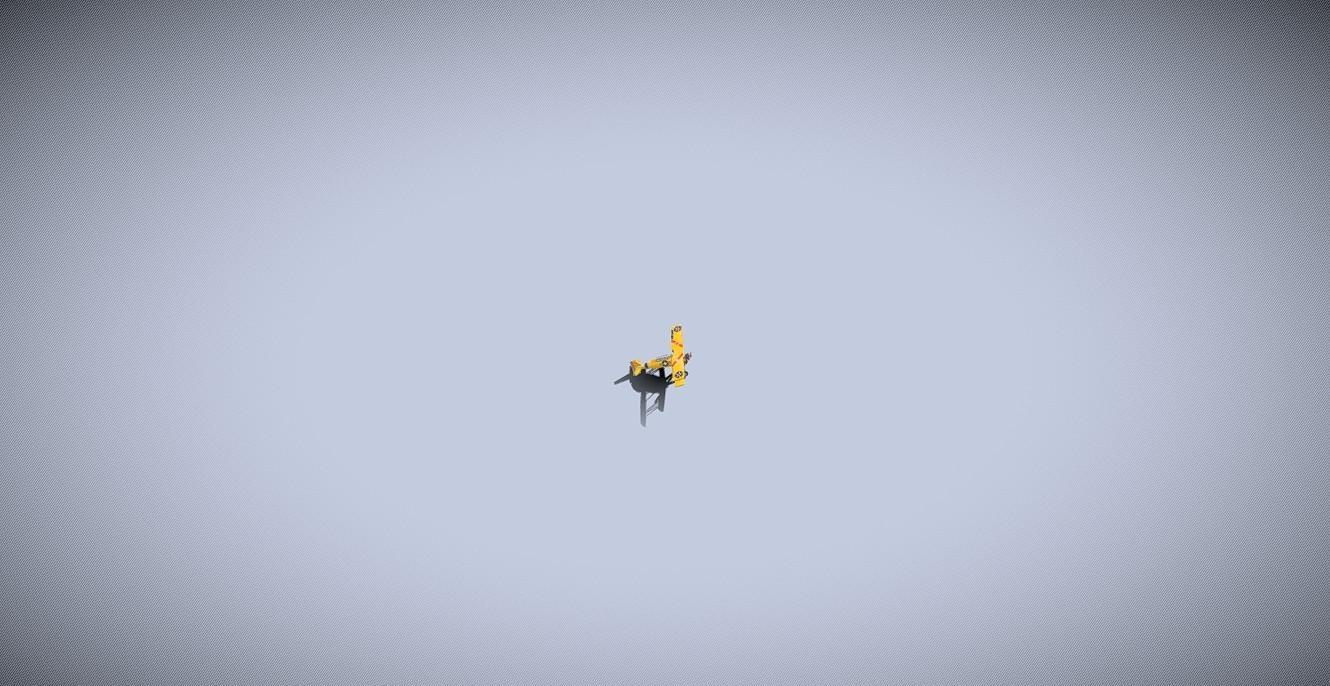Airplane: (612, 322, 693, 427)
